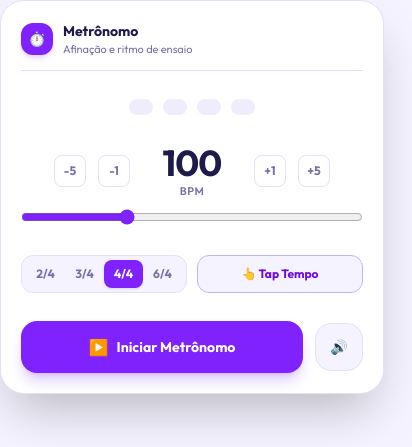
Test: Metronome Component › increments and decrements BPM via buttons
Click the button "+5" at (314, 171), box [298, 155, 330, 187]
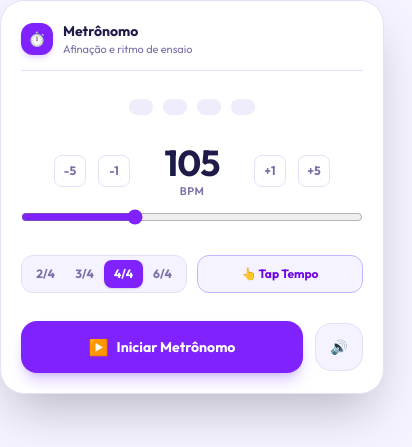
Expected: the text "105" is shown, [164, 140, 220, 184]
Click the button "-5" at (70, 171), box [54, 155, 86, 187]
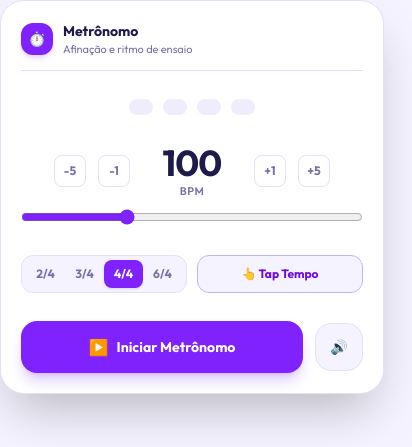
Expected: the text "100" is shown, [163, 140, 222, 184]
